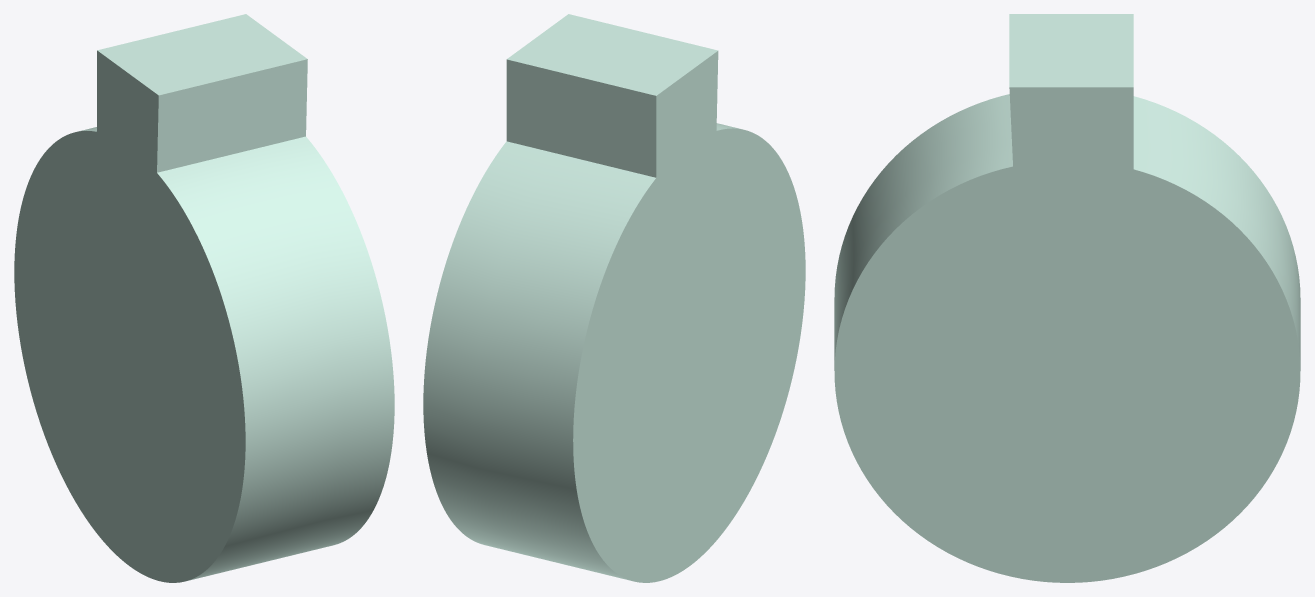
3 renders of one model, left to right at view 1: azimuth 30°, elevation 25°; view 2: azimuth 150°, elevation 25°; view 3: azimuth 270°, elevation 25°, orthographic.
Parts seen in each view (by area): view 1: Renderer Node; view 2: Renderer Node; view 3: Renderer Node.
Part boxes in pixels (bbox=[...]): Renderer Node: bbox=[14, 14, 394, 582]; Renderer Node: bbox=[423, 14, 805, 582]; Renderer Node: bbox=[834, 14, 1300, 582].
Bounding box in the file's own units: 0.4141 × 1.31 × 1.11.
